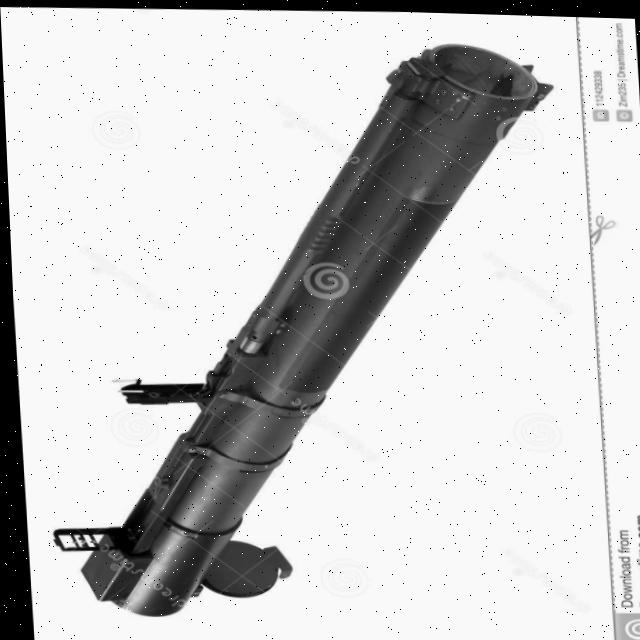rocket: (19, 27, 580, 625)
